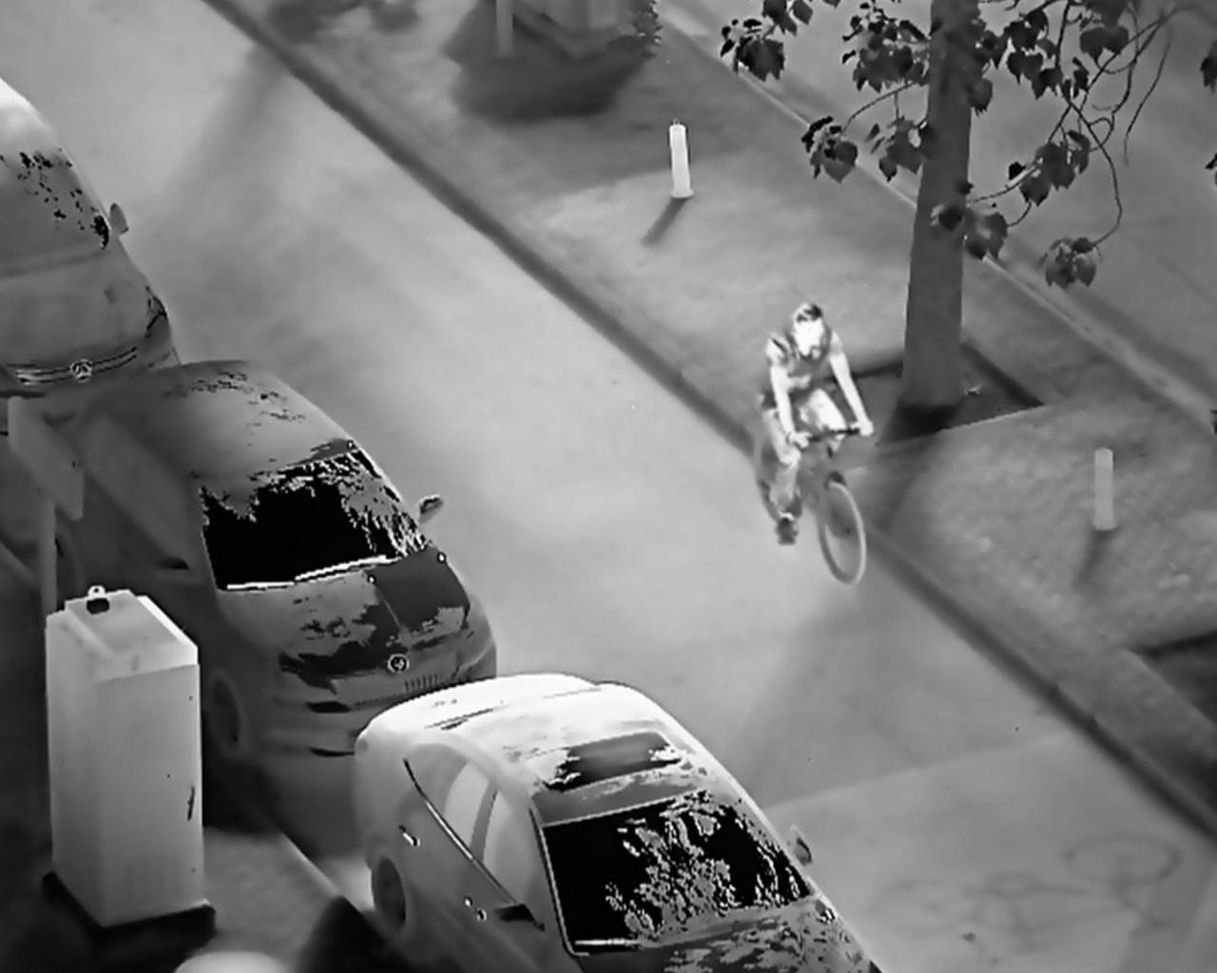person: (755, 298, 879, 552)
